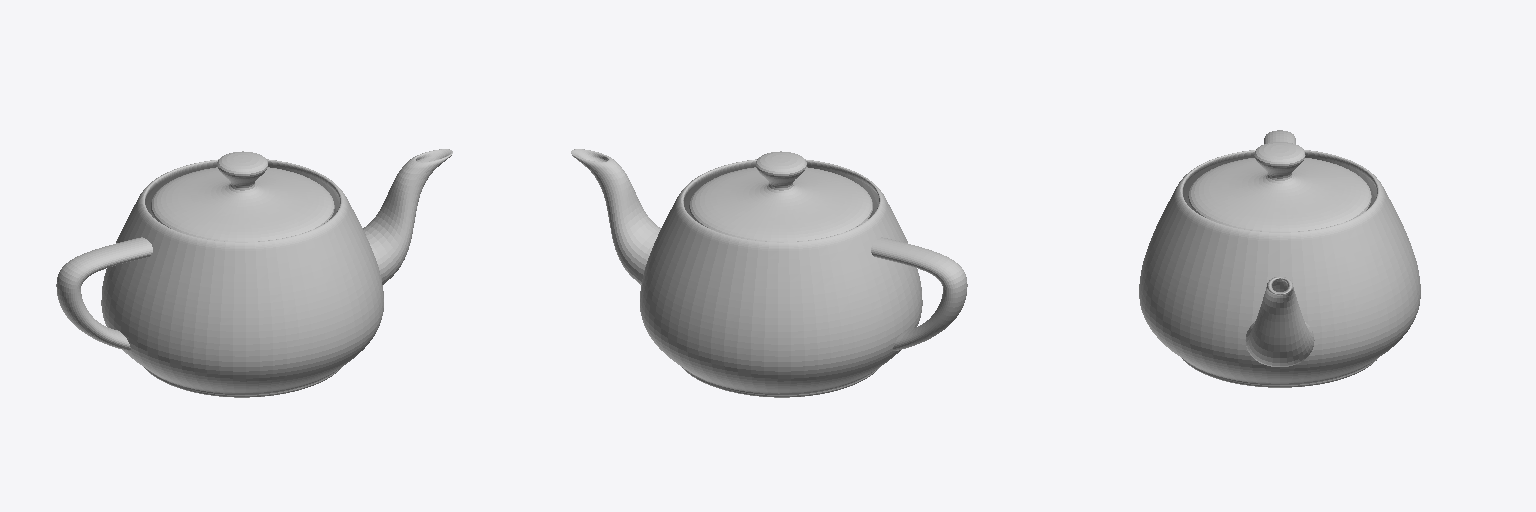
Rendered from teapot.obj.
The picture shows the model from 3 angles: view 1: azimuth 30°, elevation 25°; view 2: azimuth 150°, elevation 25°; view 3: azimuth 270°, elevation 25°; orthographic projection.
Parts seen in each view (by area): view 1: Teapot001; view 2: Teapot001; view 3: Teapot001.
Part boxes in pixels (x1,y1,x2,y2): Teapot001: (56,149,452,397); Teapot001: (571,149,967,397); Teapot001: (1139,130,1420,387).
Size of the model in its own units: 1.82 by 0.8929 by 1.13.